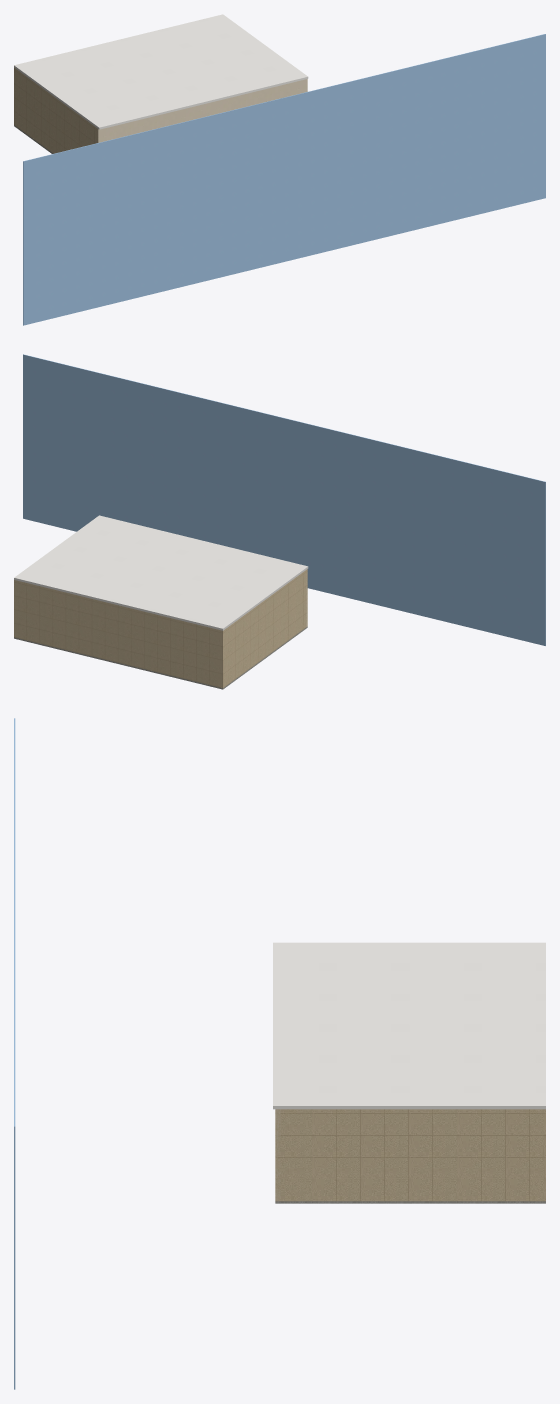
Rendered from interior.glb.
3 views of the same model, one above another, from view 1: azimuth 30°, elevation 25°; view 2: azimuth 150°, elevation 25°; view 3: azimuth 270°, elevation 25° (orthographic). The views are drawn at different scales.
Parts seen in each view (by area): view 1: Sky_Front, Ceiling, Store_IN_HwPegboard, Store_IN_WallMain; view 2: Sky_Front, Ceiling, Store_IN_HwPegboard, House_Floor_Crispins; view 3: Ceiling, Store_IN_HwPegboard, Sky_Front, House_Floor_Crispins.
Boxes of the visible parts, left/top/right/bottom form: Sky_Front: left=23, top=34, right=545, bottom=325; Ceiling: left=14, top=14, right=308, bottom=129; Store_IN_HwPegboard: left=14, top=67, right=98, bottom=153; Store_IN_WallMain: left=97, top=79, right=307, bottom=142; Sky_Front: left=23, top=354, right=545, bottom=645; Ceiling: left=14, top=515, right=308, bottom=630; Store_IN_HwPegboard: left=14, top=569, right=307, bottom=687; House_Floor_Crispins: left=14, top=626, right=307, bottom=689; Ceiling: left=273, top=942, right=545, bottom=1109; Store_IN_HwPegboard: left=275, top=1109, right=545, bottom=1201; Sky_Front: left=14, top=718, right=15, bottom=1389; House_Floor_Crispins: left=275, top=1201, right=545, bottom=1203.
Bounding box in the file's own units: 40 × 12 × 22.02.
Materials: 37 (35 with a texture image).
